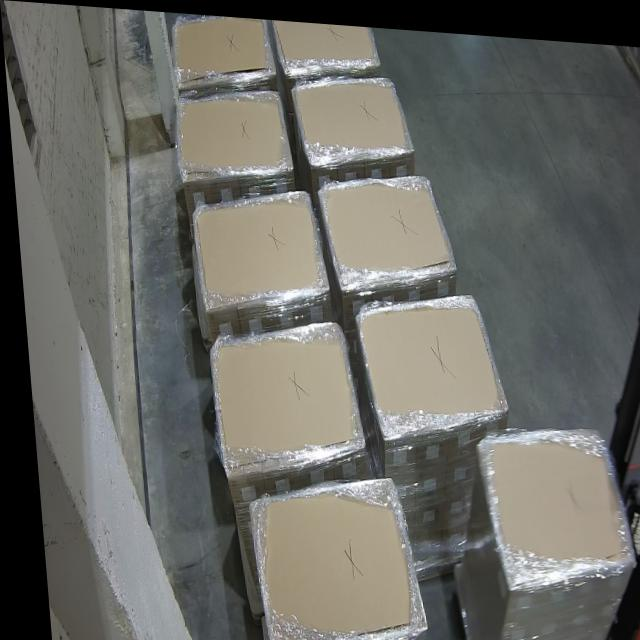pallet: (239, 474, 415, 640), (474, 423, 626, 577), (203, 320, 354, 470), (350, 285, 501, 427), (188, 189, 322, 306), (318, 166, 452, 279), (174, 84, 289, 173), (292, 70, 411, 154), (172, 15, 271, 79), (277, 16, 381, 69)
